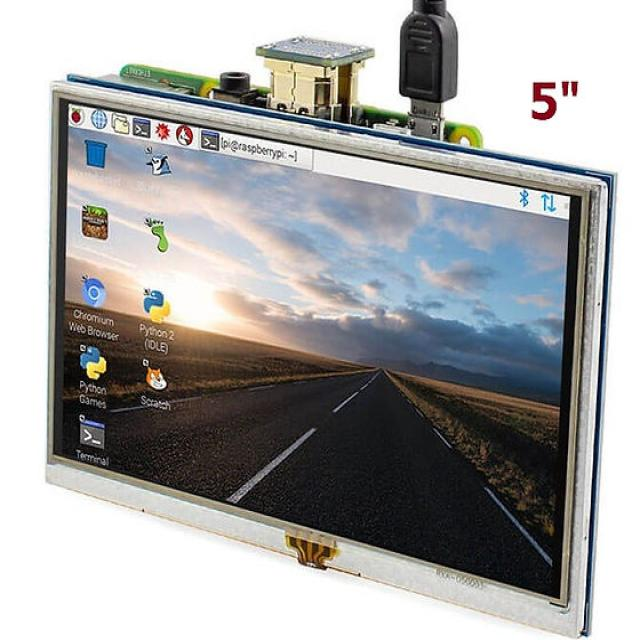Display: (29, 75, 617, 634)
